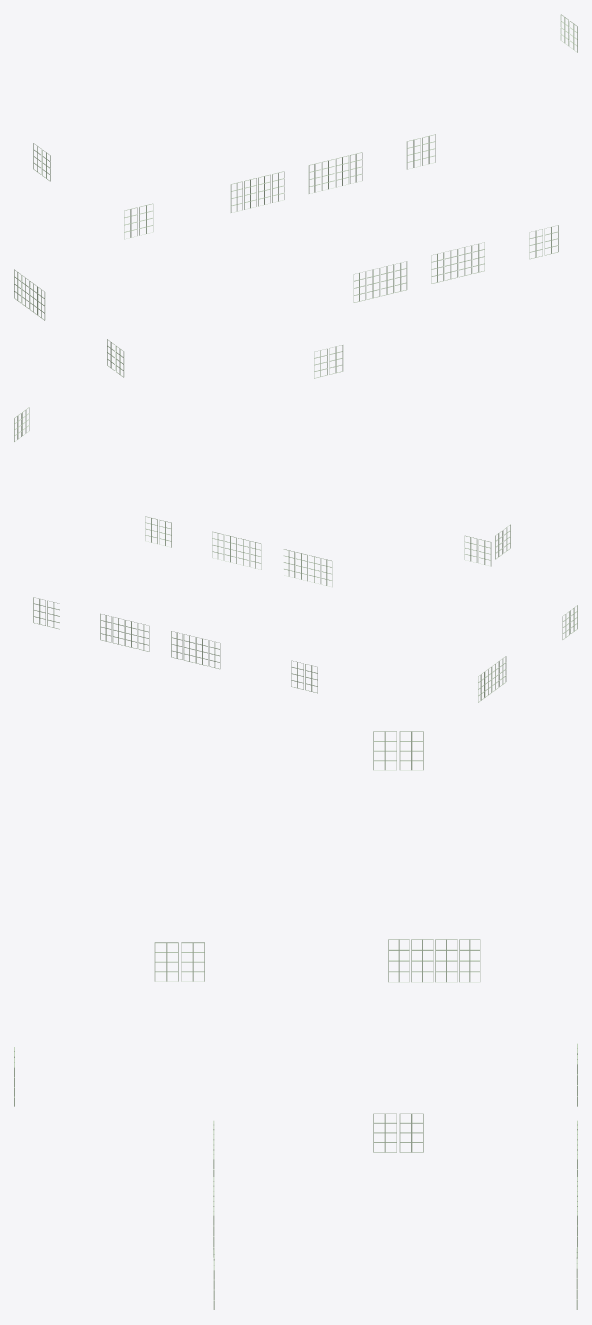
Rendered from FairyTale150.gltf.
3 renders of one model, top to bottom at view 1: azimuth 30°, elevation 25°; view 2: azimuth 150°, elevation 25°; view 3: azimuth 270°, elevation 25°, orthographic. The views are drawn at different scales.
Visible parts, largest first — view 1: HouseSM03_Mullions_Wood; view 2: HouseSM03_Mullions_Wood; view 3: HouseSM03_Mullions_Wood.
Part boxes in pixels (left/top/right/bottom): HouseSM03_Mullions_Wood: left=14, top=14, right=577, bottom=378; HouseSM03_Mullions_Wood: left=14, top=407, right=577, bottom=702; HouseSM03_Mullions_Wood: left=14, top=731, right=577, bottom=1309.
Size of the model in its own units: 15.55 by 4.77 by 9.7.
